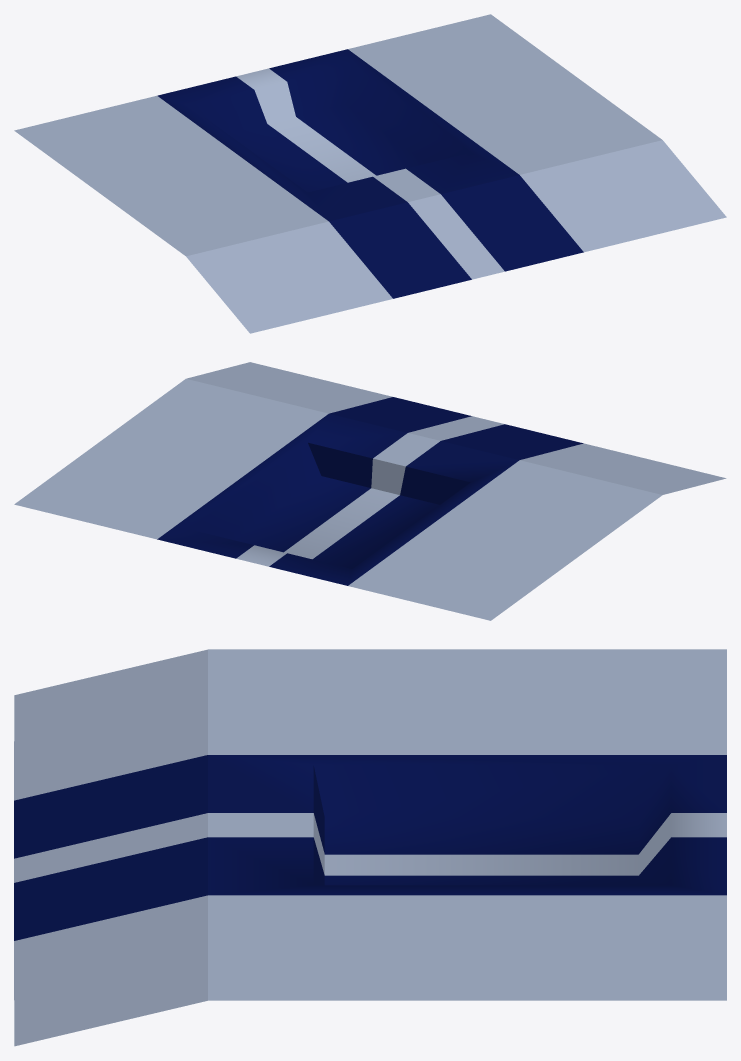
The model's file is engine2.fbx.
3 views of the same model, one above another, from view 1: azimuth 30°, elevation 25°; view 2: azimuth 150°, elevation 25°; view 3: azimuth 270°, elevation 25° (orthographic). The views are drawn at different scales.
Visible parts, largest first — view 1: Engine2; view 2: Engine2; view 3: Engine2.
Part boxes in pixels (x1,y1,x2,y2): Engine2: (14, 14, 726, 333); Engine2: (14, 362, 726, 620); Engine2: (14, 649, 726, 1046).
Size of the model in its own units: 2.2 by 0.1337 by 1.89.
